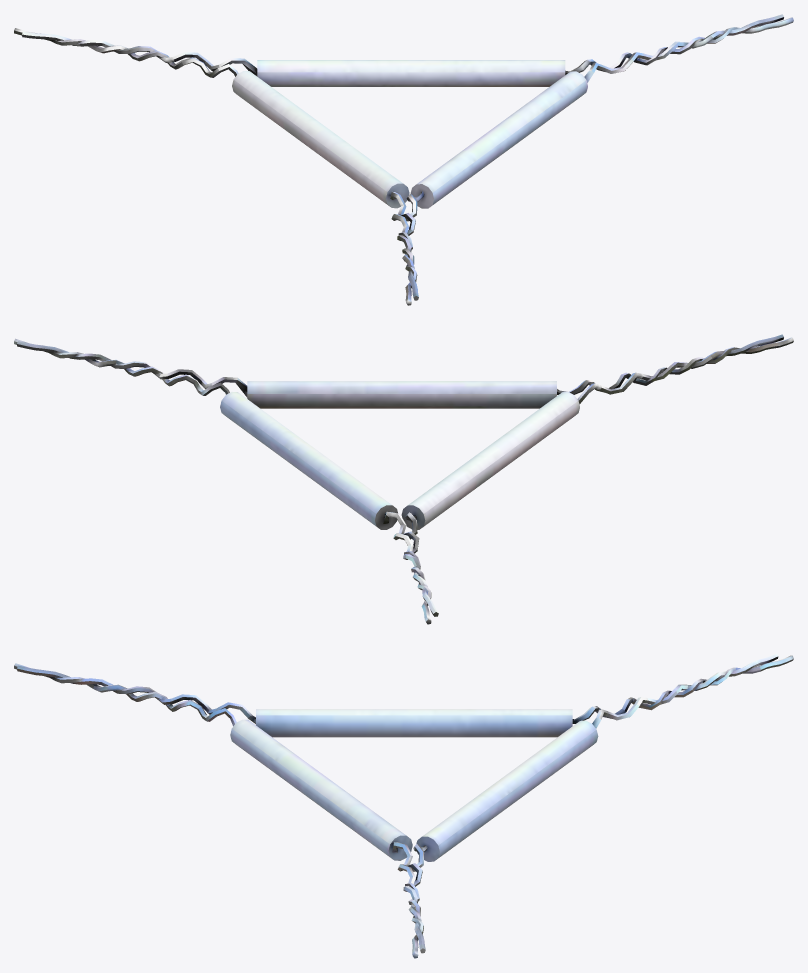
Rendered from tripod_triangle.glb.
3 renders of one model, top to bottom at view 1: azimuth 30°, elevation 25°; view 2: azimuth 150°, elevation 25°; view 3: azimuth 270°, elevation 25°, orthographic. The views are drawn at different scales.
Parts seen in each view (by area): view 1: tripod_triangle; view 2: tripod_triangle; view 3: tripod_triangle.
Boxes of the visible parts, x1=… form: tripod_triangle: x1=14, y1=14, x2=793, y2=305; tripod_triangle: x1=14, y1=334, x2=793, y2=624; tripod_triangle: x1=14, y1=653, x2=793, y2=958.
Size of the model in its own units: 0.1287 by 0.00547 by 0.1418.
1 material, 1 textured.
